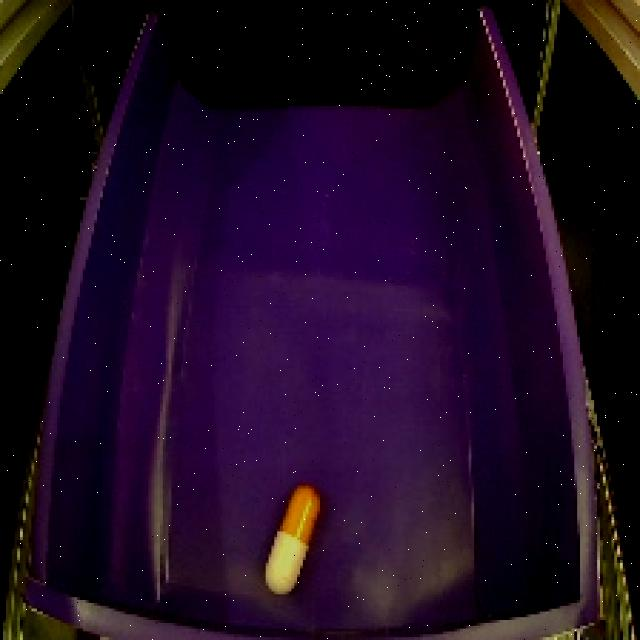small: (258, 478, 330, 602)
